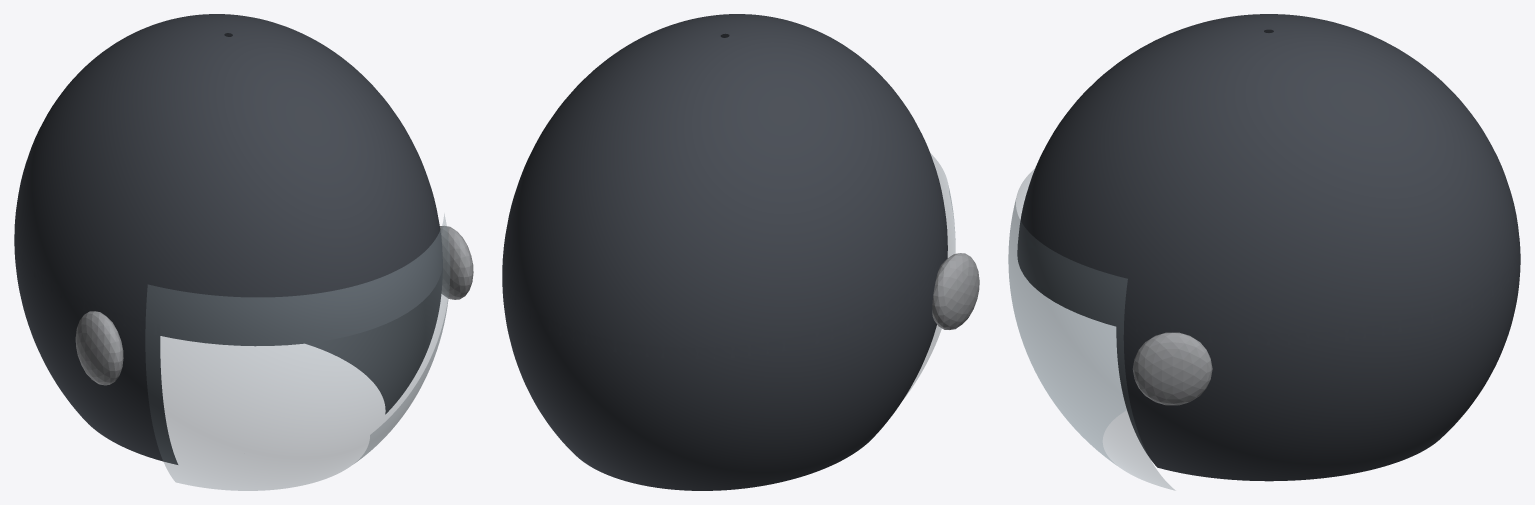
File: baldini-casco.glb
The picture shows the model from 3 angles, left to right: view 1: azimuth 30°, elevation 25°; view 2: azimuth 150°, elevation 25°; view 3: azimuth 270°, elevation 25°; orthographic projection. The views are drawn at different scales.
Visible parts, largest first — view 1: geometry_0, geometry_2, geometry_1, geometry_3, geometry_4; view 2: geometry_0, geometry_1, geometry_3, geometry_2; view 3: geometry_0, geometry_1, geometry_2, geometry_4.
Boxes of the visible parts, left/top/right/bottom form: geometry_0: left=14, top=14, right=442, bottom=346; geometry_2: left=145, top=214, right=450, bottom=490; geometry_1: left=14, top=224, right=442, bottom=464; geometry_3: left=75, top=311, right=123, bottom=385; geometry_4: left=440, top=226, right=473, bottom=299; geometry_0: left=503, top=14, right=947, bottom=359; geometry_1: left=502, top=235, right=947, bottom=490; geometry_3: left=932, top=253, right=979, bottom=329; geometry_2: left=905, top=153, right=955, bottom=396; geometry_0: left=1017, top=14, right=1519, bottom=345; geometry_1: left=1116, top=238, right=1520, bottom=481; geometry_2: left=1008, top=169, right=1175, bottom=490; geometry_4: left=1132, top=332, right=1212, bottom=405.
Bounding box in the file's own units: 0.31 × 0.3055 × 0.3459.
